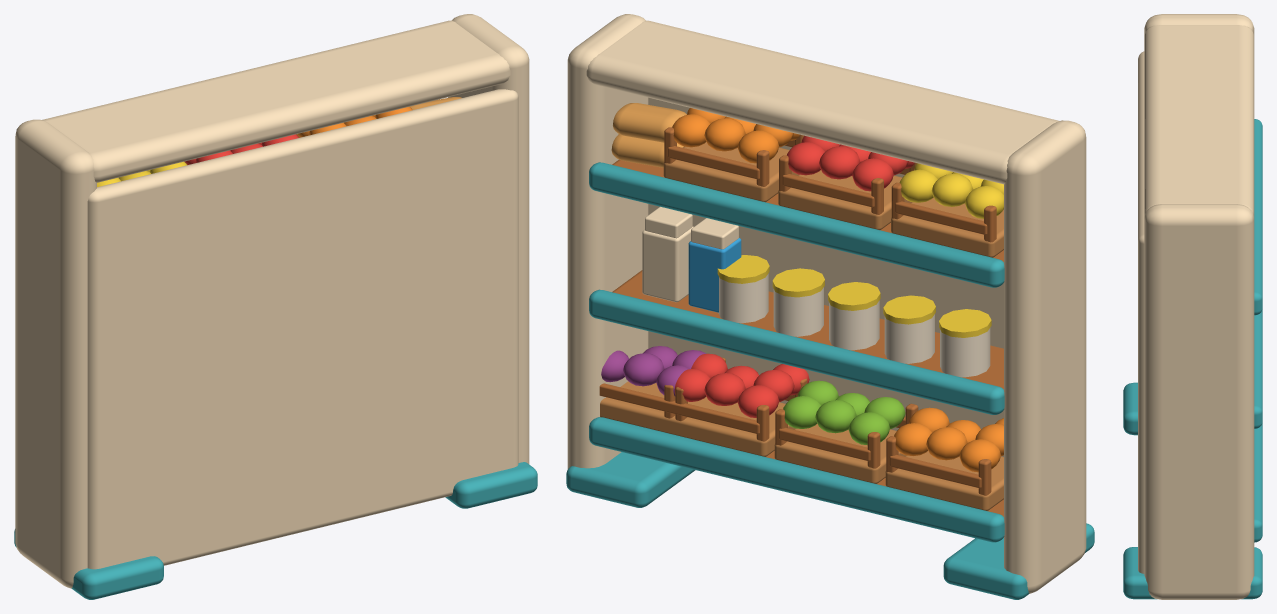
The model's file is ShelfFull.glb.
3 views of the same model, side by side, from view 1: azimuth 30°, elevation 25°; view 2: azimuth 150°, elevation 25°; view 3: azimuth 270°, elevation 25° (orthographic). The views are drawn at different scales.
Parts seen in each view (by area): view 1: BackPanel, LeftUpright, TopCrossbar, RightUpright, LeftFoot, RightFoot; view 2: LeftUpright, TopCrossbar, RightUpright, BackPanel, TealFrontRail_1, TealFrontRail_3, TealFrontRail_2, BottomTomatoes, BottomLettuce, BottomCarrots, RightFoot, TopApples (+35 smaller); view 3: RightUpright, TopCrossbar, BackPanel, TealFrontRail_3, RightFoot, LeftUpright, TealFrontRail_2, TealFrontRail_1, LeftFoot.
Part boxes in pixels (left/top/right/bottom): BackPanel: left=87, top=89, right=518, bottom=569; LeftUpright: left=15, top=119, right=96, bottom=588; TopCrossbar: left=42, top=20, right=510, bottom=182; RightUpright: left=448, top=14, right=529, bottom=463; LeftFoot: left=14, top=529, right=163, bottom=599; RightFoot: left=445, top=462, right=537, bottom=508; LeftUpright: left=1004, top=120, right=1086, bottom=593; TopCrossbar: left=586, top=20, right=1059, bottom=184; RightUpright: left=567, top=14, right=648, bottom=469; BackPanel: left=648, top=97, right=1003, bottom=456; TealFrontRail_1: left=589, top=417, right=1004, bottom=542; TealFrontRail_3: left=589, top=162, right=1004, bottom=287; TealFrontRail_2: left=589, top=289, right=1004, bottom=414; BottomTomatoes: left=674, top=353, right=809, bottom=417; BottomLettuce: left=783, top=380, right=905, bottom=445; BottomCarrots: left=894, top=407, right=1003, bottom=472; RightFoot: left=566, top=452, right=695, bottom=507; TopApples: left=787, top=135, right=914, bottom=191; RightUpright: left=1144, top=204, right=1254, bottom=599; TopCrossbar: left=1144, top=25, right=1254, bottom=216; BackPanel: left=1138, top=51, right=1144, bottom=573; TealFrontRail_3: left=1254, top=119, right=1262, bottom=315; RightFoot: left=1123, top=547, right=1262, bottom=599; LeftUpright: left=1144, top=14, right=1254, bottom=35; TealFrontRail_2: left=1254, top=309, right=1262, bottom=428; TealFrontRail_1: left=1254, top=423, right=1262, bottom=542; LeftFoot: left=1123, top=382, right=1137, bottom=435.
Size of the model in its own units: 2.29 by 2.04 by 0.66.
